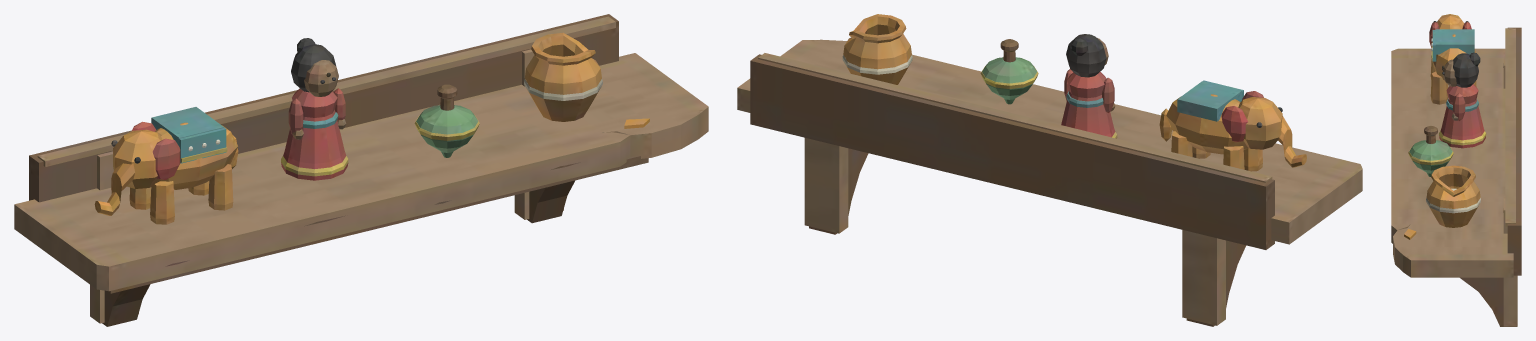
The model's file is L30_wall_shelf_with_knick_knacks.glb.
The picture shows the model from 3 angles, left to right: view 1: azimuth 30°, elevation 25°; view 2: azimuth 150°, elevation 25°; view 3: azimuth 270°, elevation 25°; orthographic projection. The views are drawn at different scales.
Parts seen in each view (by area): view 1: Toy factory wall shelf; view 2: Toy factory wall shelf; view 3: Toy factory wall shelf.
Boxes of the visible parts, x1,y1,x2,y2 form: Toy factory wall shelf: (14,14,708,326); Toy factory wall shelf: (737,14,1362,326); Toy factory wall shelf: (1391,14,1521,326).
Bounding box in the file's own units: 1 × 0.397 × 0.2604.
Materials: 12 (12 with a texture image).
